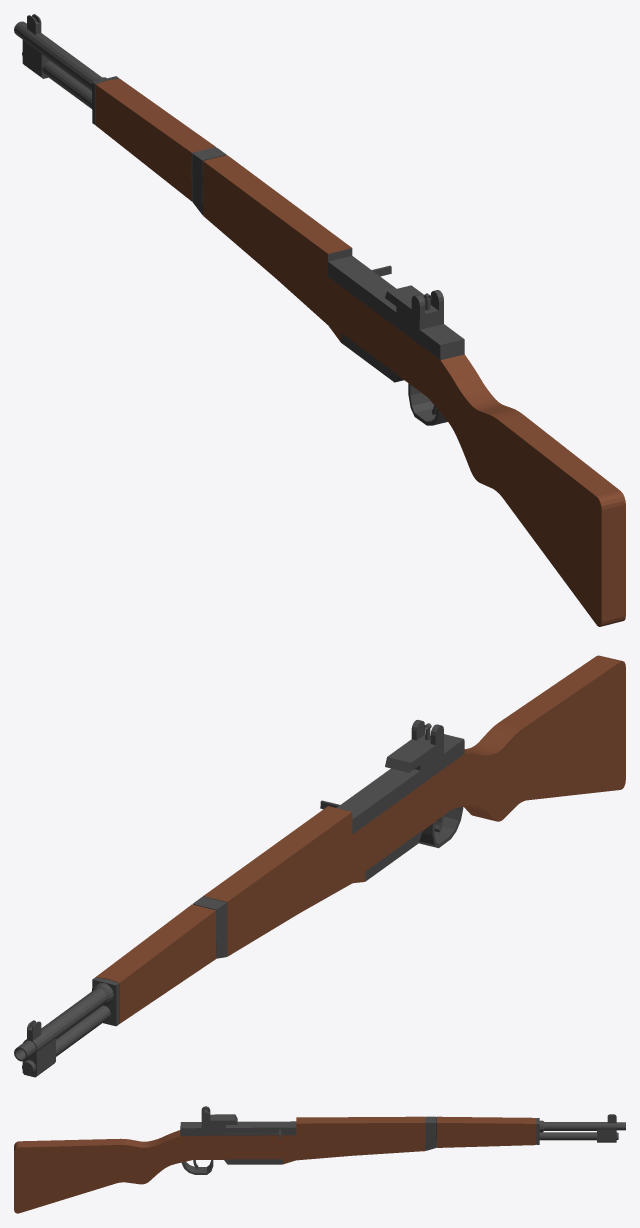
The model's file is garand.fbx.
3 renders of one model, top to bottom at view 1: azimuth 30°, elevation 25°; view 2: azimuth 150°, elevation 25°; view 3: azimuth 270°, elevation 25°, orthographic. The views are drawn at different scales.
Parts seen in each view (by area): view 1: Garand; view 2: Garand; view 3: Garand, Chamber.
Part boxes in pixels (x1,y1,x2,y2): Garand: (14, 14, 625, 626); Garand: (14, 655, 625, 1077); Garand: (14, 1106, 625, 1213); Chamber: (226, 1129, 282, 1138).
Size of the model in its own units: 21.47 by 85.86 by 470.
